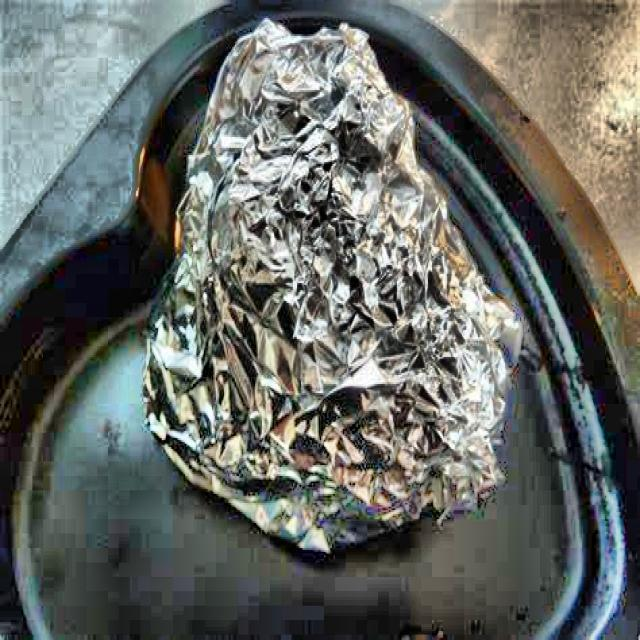Foil: (137, 14, 533, 574)
